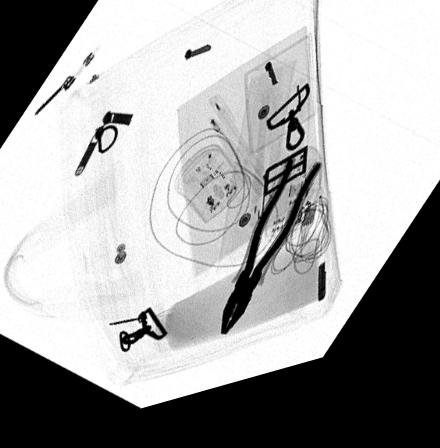Pliers: (219, 171, 321, 345)
